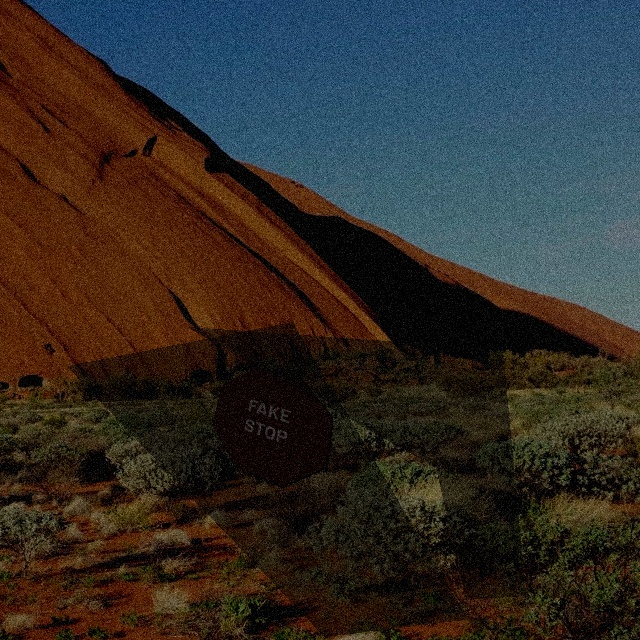FAKE_STOP: (212, 366, 333, 488)
